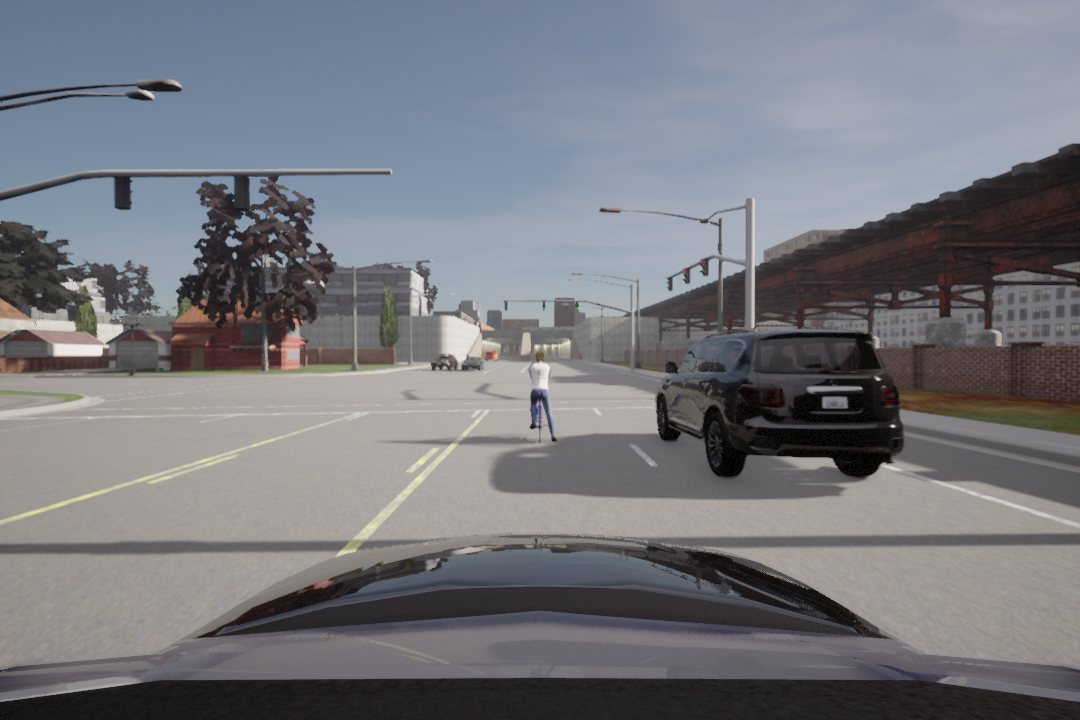TrafficLight: (701, 257, 710, 276), (681, 265, 689, 284), (667, 274, 673, 291)
